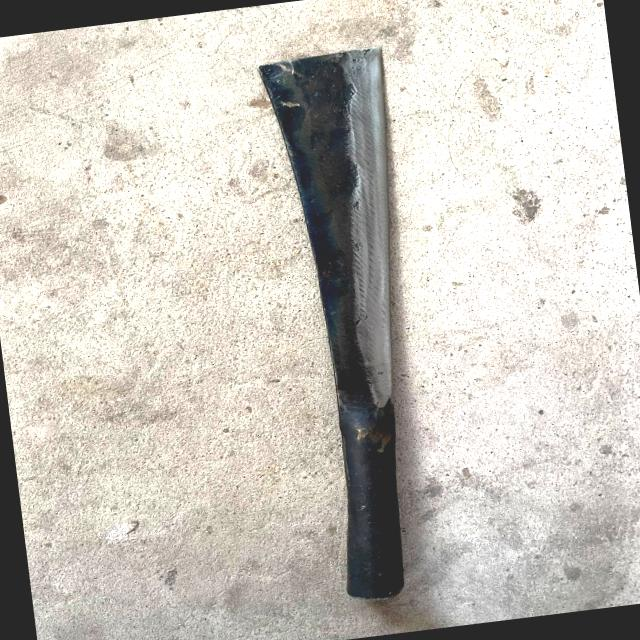eto: (258, 44, 411, 603)
